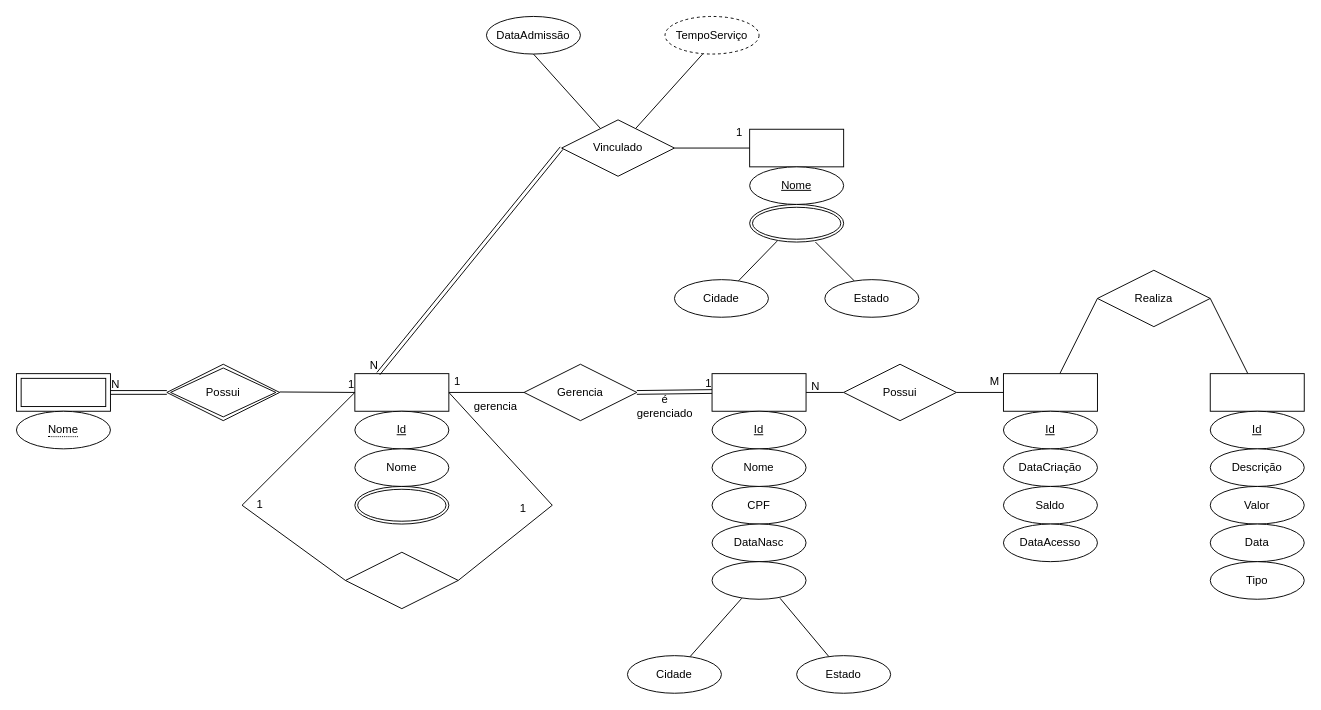
This 1321x710 diagram has some shape labels left out. The centre of each missing label's shape, as x and y in pixels:
"Agência" goes at (x=796, y=147).
"Cliente" goes at (x=758, y=392).
"ContaCorrente" goes at (x=1050, y=392).
"Dependentes" goes at (x=63, y=392).
"Endereço" goes at (x=758, y=580).
"Funcionário" goes at (x=401, y=392).
"Localização" goes at (x=796, y=223).
"NumTelefone" goes at (x=401, y=505).
"Operações" goes at (x=1256, y=392).
"Supervisor" goes at (x=401, y=580).
